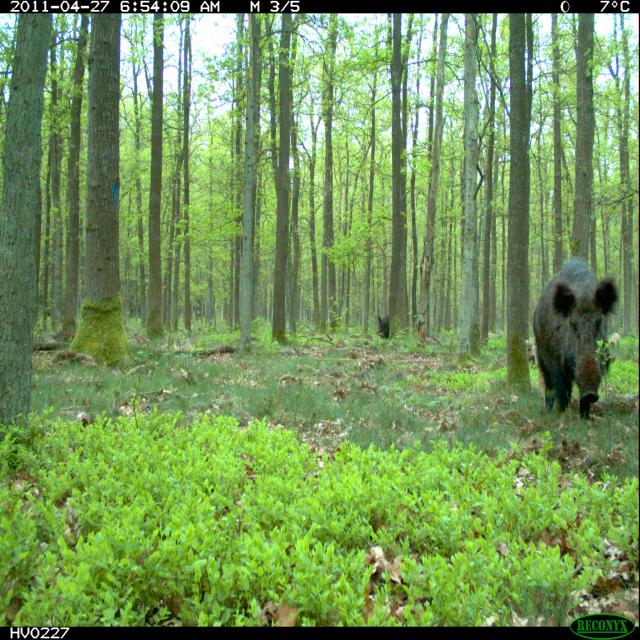boar: (505, 249, 634, 440), (365, 302, 403, 355)
